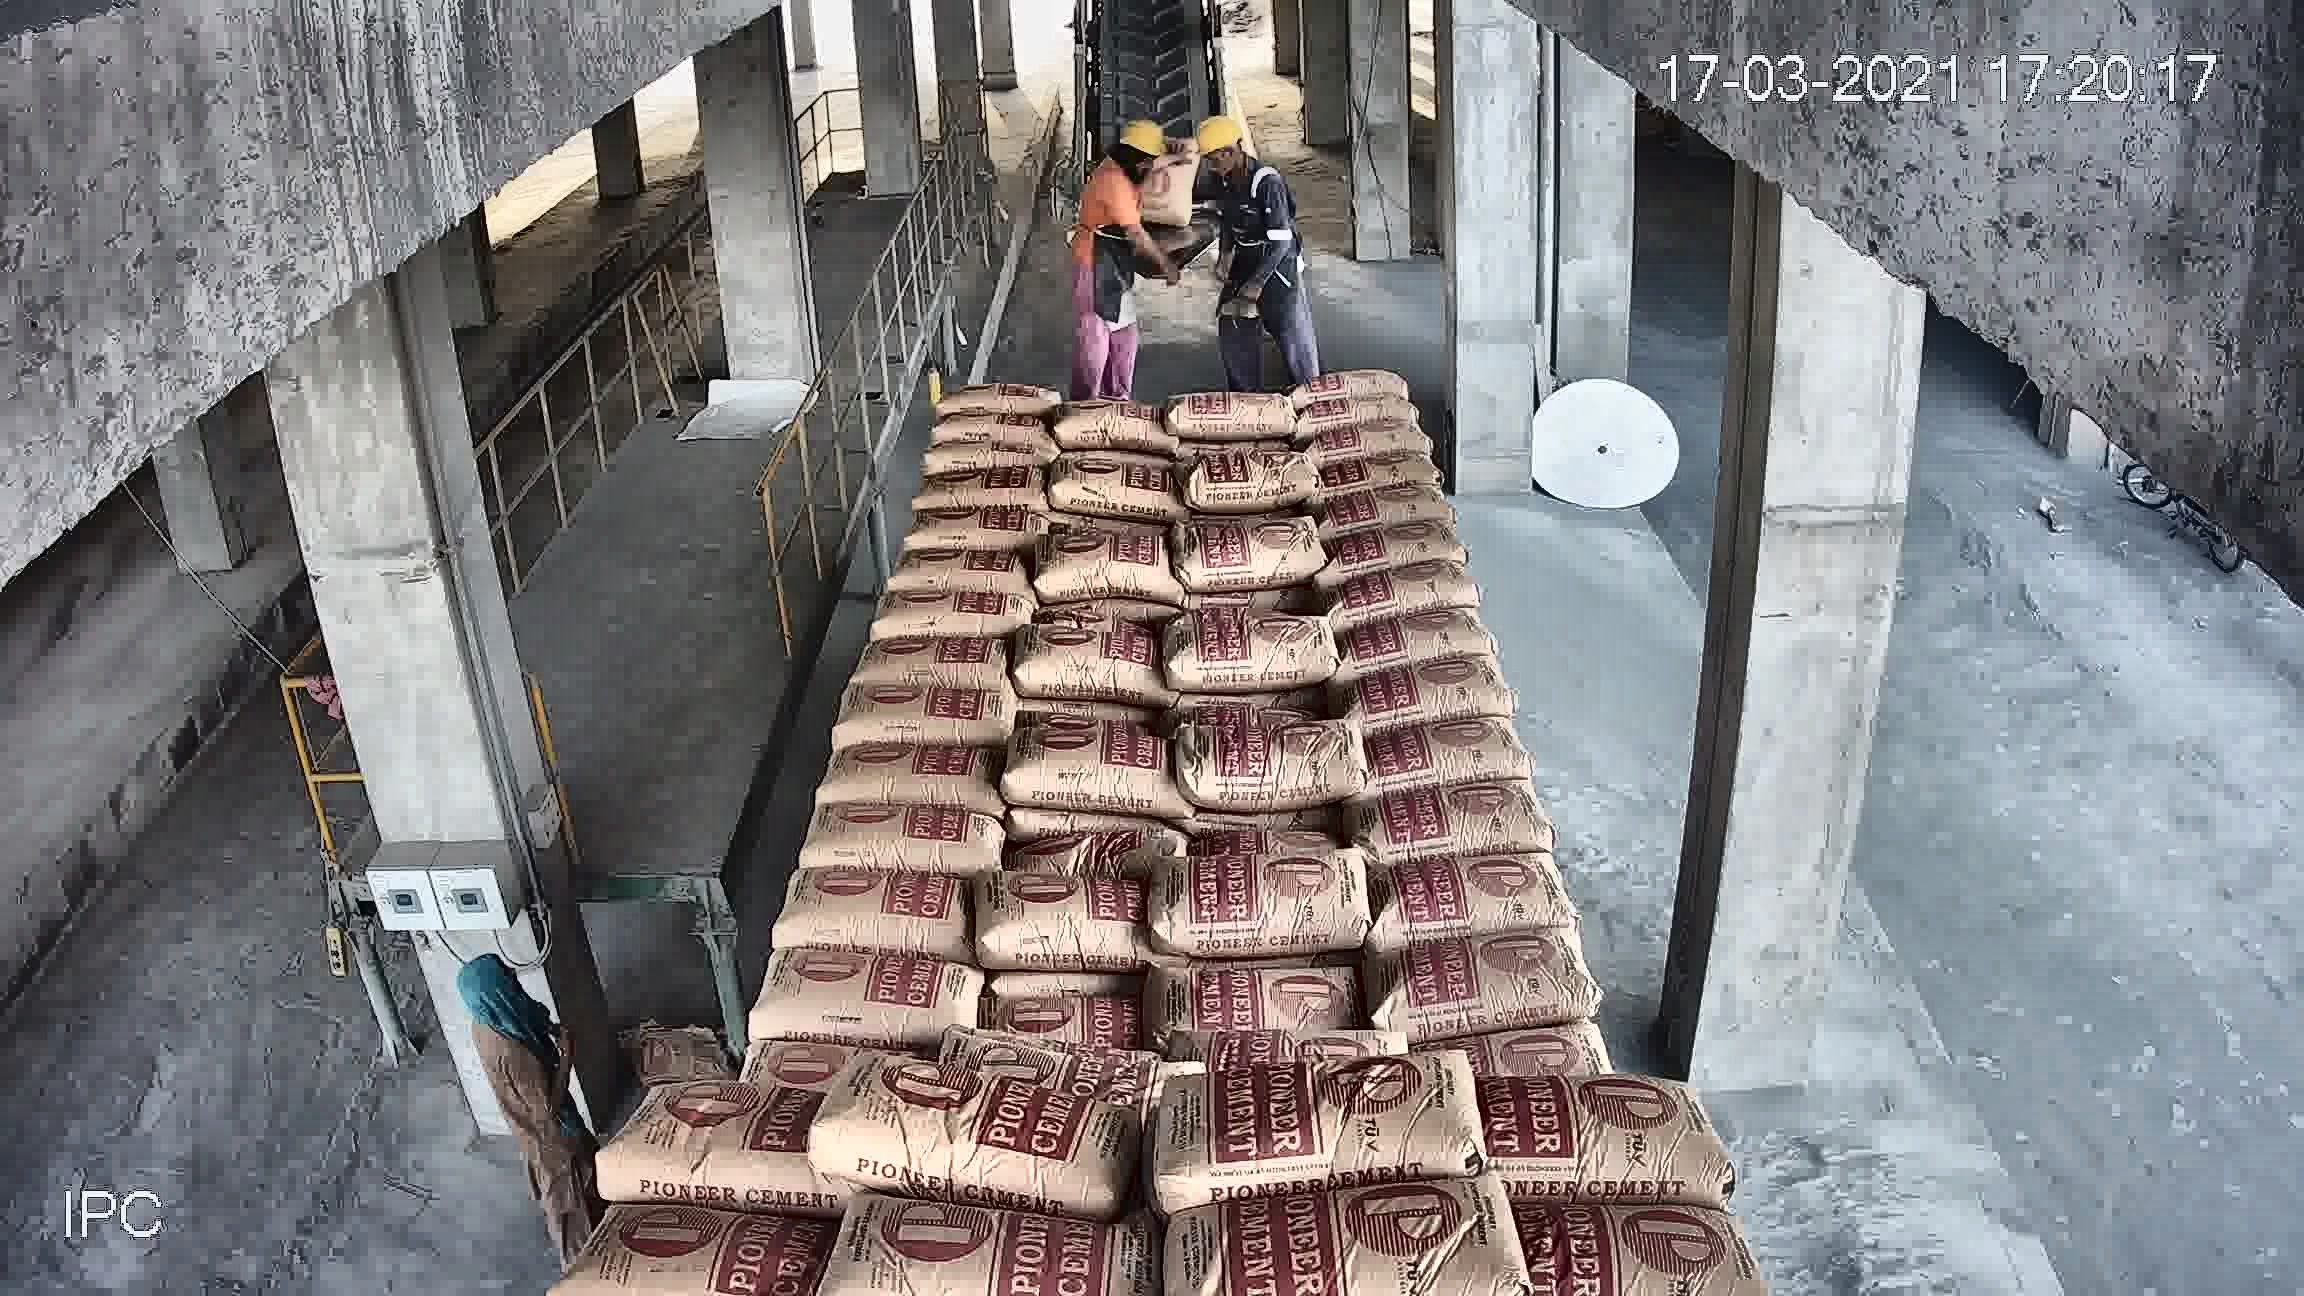bag: (1082, 237, 1234, 392)
bag_h: (1124, 1014, 1505, 1215), (1161, 1157, 1540, 1293), (1138, 918, 1453, 1071), (782, 1082, 1146, 1203), (567, 1067, 805, 1223), (612, 943, 888, 1074), (858, 957, 1147, 1081), (536, 1209, 812, 1296), (832, 1218, 1157, 1283), (981, 875, 1139, 965), (999, 715, 1188, 782), (706, 900, 945, 948), (1003, 783, 1154, 856), (1449, 851, 1570, 930), (1021, 661, 1150, 733), (1427, 718, 1533, 794), (1432, 794, 1540, 869), (1160, 772, 1264, 845), (1419, 657, 1514, 729), (1166, 717, 1256, 788), (1176, 668, 1283, 723), (1305, 337, 1407, 388), (1324, 359, 1407, 415), (1367, 408, 1427, 472), (1418, 609, 1491, 655), (1320, 312, 1389, 356)
belt: (999, 6, 1309, 522)
